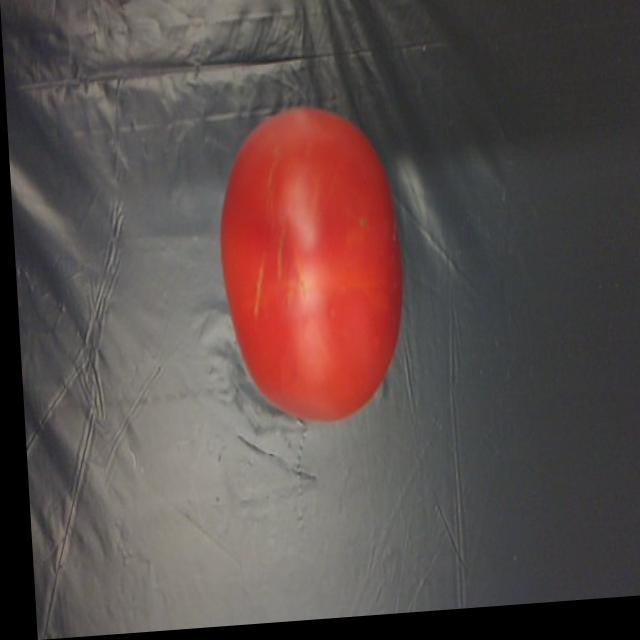kirmizi: (211, 101, 410, 439)
